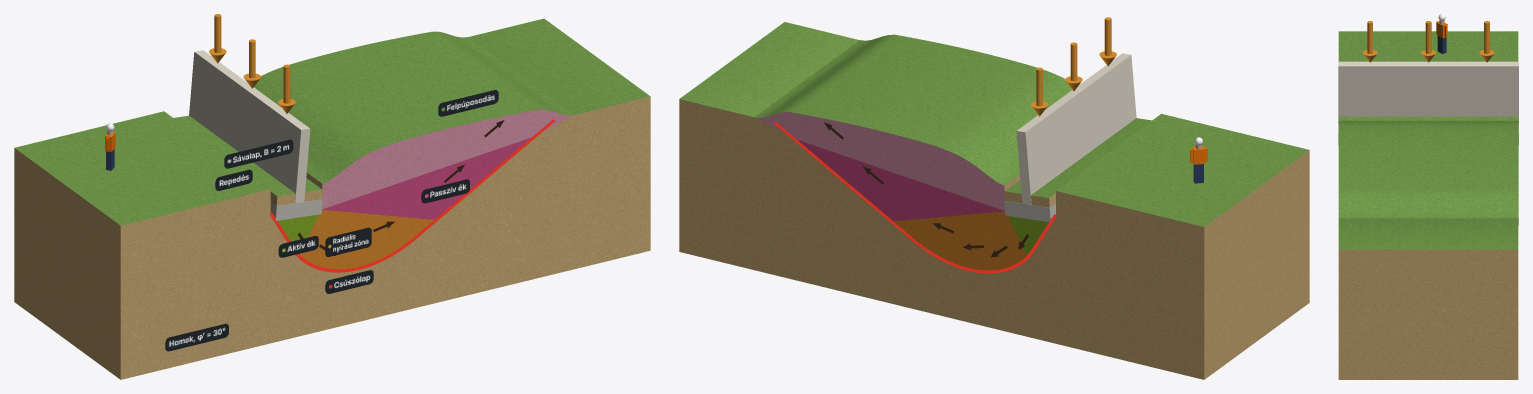
Rendered from talajtores.glb.
The picture shows the model from 3 angles, left to right: view 1: azimuth 30°, elevation 25°; view 2: azimuth 150°, elevation 25°; view 3: azimuth 270°, elevation 25°; orthographic projection. The views are drawn at different scales.
Parts seen in each view (by area): view 1: All_talaj_cap, All_talaj_top, Takaras_top, All_talaj_side, Takaras_cap, Fal_side, Felirat (×8), Passziv_ek_cap, Radialis_zona_cap, Talajtores, Visszatoltes_top, Fal_top (+3 smaller); view 2: All_talaj_cap, Takaras_top, All_talaj_top, All_talaj_side, Takaras_cap, Fal_side, Passziv_ek_cap, Radialis_zona_cap, Talajtores, Visszatoltes_top, Fal_top, Aktiv_ek_cap (+3 smaller); view 3: All_talaj_side, Takaras_top, All_talaj_top, Fal_side, Fal_top, Talajtores, Visszatoltes_top, Munkas.
Part boxes in pixels (box(x1,y1,x2,y2)): All_talaj_cap: box(120, 96, 650, 379); All_talaj_top: box(14, 18, 650, 225); Takaras_top: box(254, 31, 574, 183); All_talaj_side: box(14, 148, 120, 379); Takaras_cap: box(322, 109, 574, 209); Fal_side: box(189, 52, 301, 203); Felirat (×8): box(165, 90, 498, 351); Passziv_ek_cap: box(322, 137, 531, 219); Radialis_zona_cap: box(300, 209, 433, 269); Talajtores: box(209, 14, 554, 272); Visszatoltes_top: box(174, 115, 295, 196); Fal_top: box(194, 50, 309, 129); All_talaj_cap: box(679, 99, 1204, 379); Takaras_top: box(755, 34, 1072, 185); All_talaj_top: box(680, 22, 1308, 226); All_talaj_side: box(1204, 150, 1309, 379); Takaras_cap: box(754, 112, 1004, 210); Fal_side: box(1025, 55, 1136, 204); Passziv_ek_cap: box(798, 140, 1004, 221); Radialis_zona_cap: box(894, 211, 1026, 270); Talajtores: box(774, 17, 1116, 273); Visszatoltes_top: box(1031, 118, 1151, 197); Fal_top: box(1017, 53, 1130, 132); Aktiv_ek_cap: box(1008, 216, 1048, 254); All_talaj_side: box(1338, 249, 1518, 379); Takaras_top: box(1338, 120, 1518, 218); All_talaj_top: box(1338, 31, 1518, 249); Fal_side: box(1338, 66, 1518, 124); Fal_top: box(1338, 61, 1518, 66); Talajtores: box(1362, 21, 1494, 62); Visszatoltes_top: box(1338, 116, 1518, 120); Munkas: box(1436, 14, 1447, 53).
Size of the model in its own units: 0.92 by 0.4234 by 0.322.
Materials: 26 (15 with a texture image).
